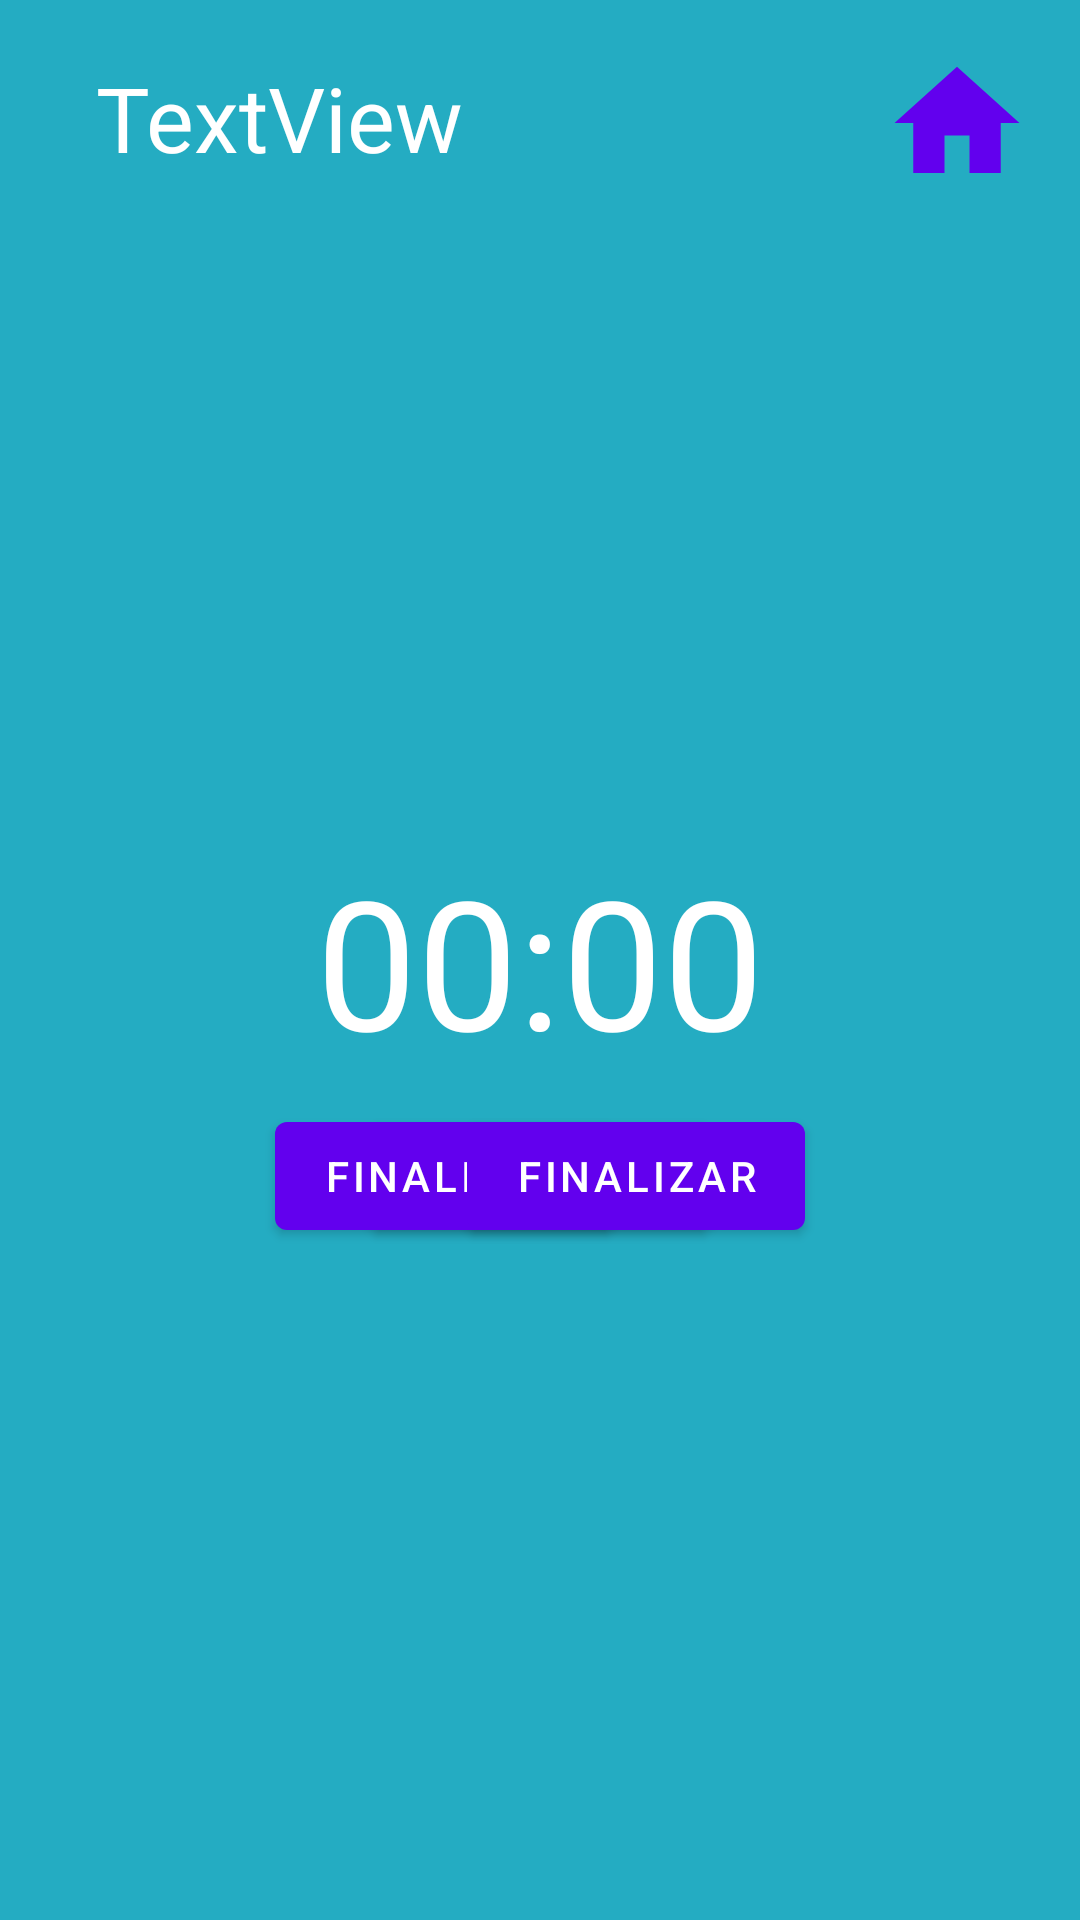

Icon click points for this 1080x1920 phone screenshot, format (x,y):
home: (957,120)
